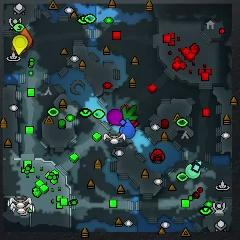p1: (120, 118, 135, 138)
p2: (185, 161, 202, 179)
p3: (107, 109, 123, 125)
p4: (13, 35, 27, 55)
p5: (20, 28, 34, 48)
x4: (122, 105, 138, 120)
